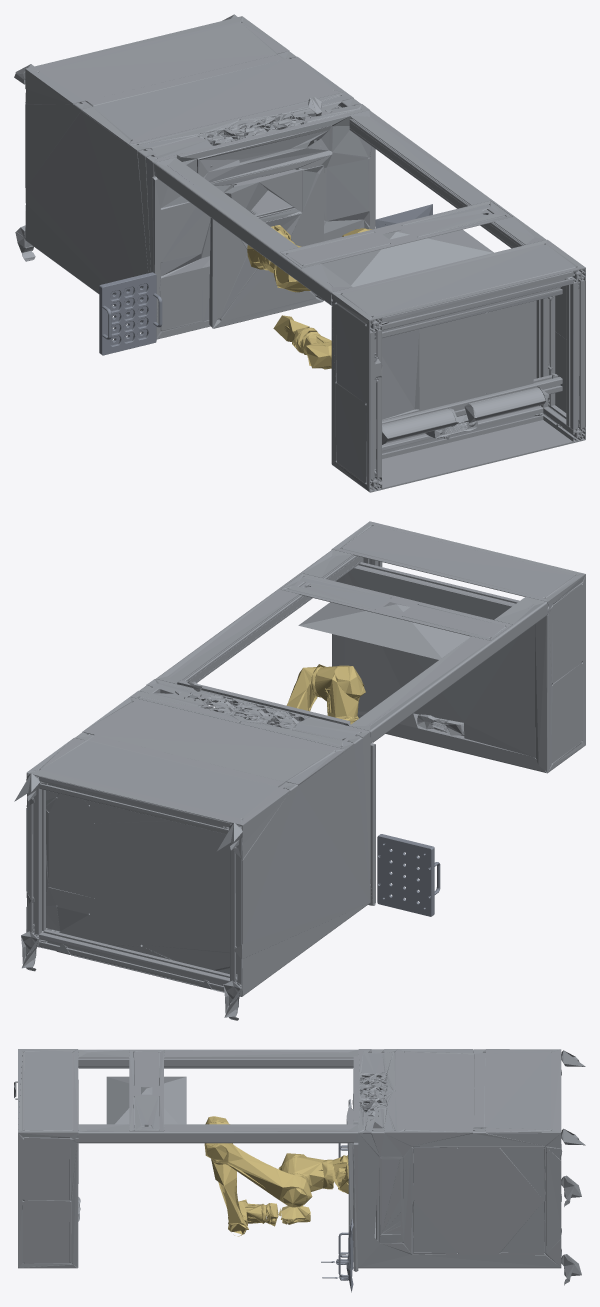
The model's file is cell.glb.
3 renders of one model, top to bottom at view 1: azimuth 30°, elevation 25°; view 2: azimuth 150°, elevation 25°; view 3: azimuth 270°, elevation 25°, orthographic. The views are drawn at different scales.
Parts seen in each view (by area): view 1: Basiswagen, Poltopf_Tray, NEURA_LARA5_Pose_Zivid_Detection, Anker_Tray; view 2: Basiswagen, Poltopf_Tray, NEURA_LARA5_Pose_Zivid_Detection; view 3: Basiswagen, NEURA_LARA5_Pose_Zivid_Detection, Anker_Tray.
Boxes of the visible parts, left/top/right/bottom form: Basiswagen: left=14, top=14, right=585, bottom=492; Poltopf_Tray: left=99, top=272, right=162, bottom=355; NEURA_LARA5_Pose_Zivid_Detection: left=247, top=225, right=372, bottom=369; Anker_Tray: left=375, top=204, right=432, bottom=228; Basiswagen: left=14, top=521, right=585, bottom=1020; Poltopf_Tray: left=377, top=834, right=440, bottom=916; NEURA_LARA5_Pose_Zivid_Detection: left=286, top=664, right=365, bottom=724; Basiswagen: left=14, top=1049, right=585, bottom=1285; NEURA_LARA5_Pose_Zivid_Detection: left=204, top=1116, right=348, bottom=1236; Anker_Tray: left=321, top=1218, right=353, bottom=1292.
Bounding box in the file's own units: 1.23 × 0.7423 × 2.3.
